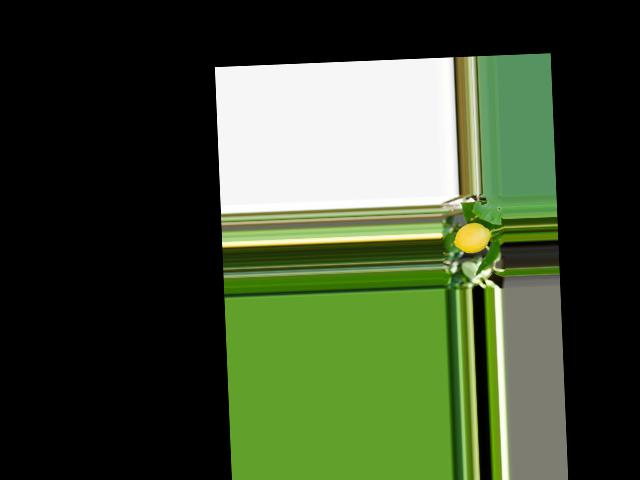lemon: (448, 222, 493, 257)
